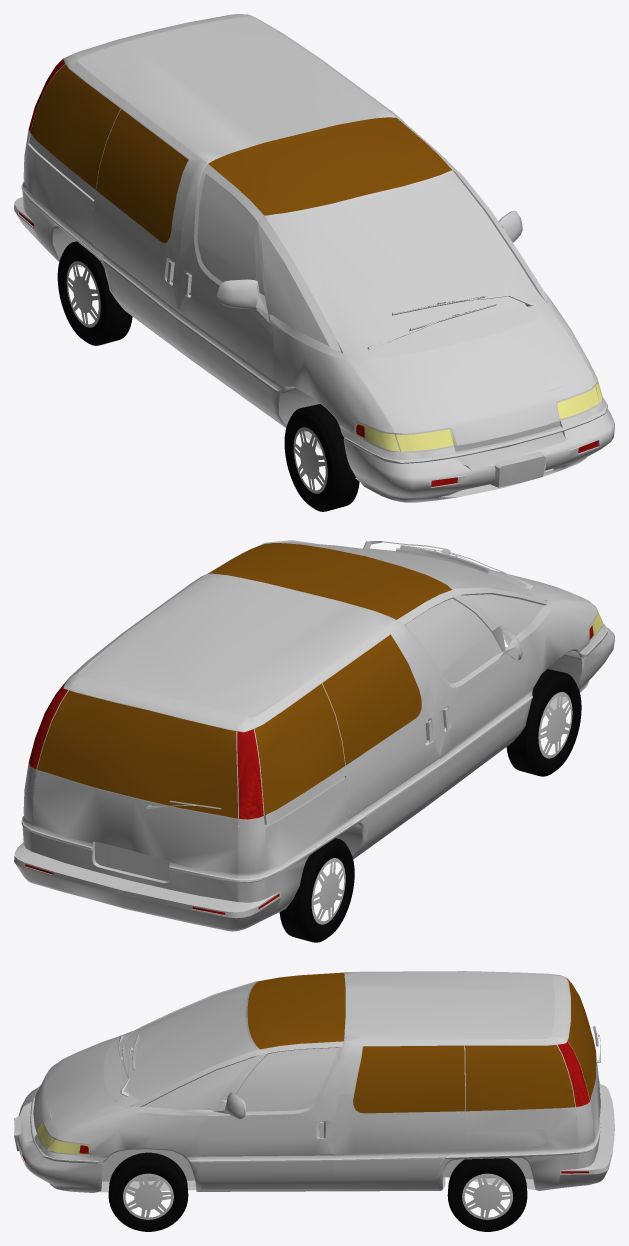
The model's file is xiaohuoche2.gltf.
3 views of the same model, one above another, from view 1: azimuth 30°, elevation 25°; view 2: azimuth 150°, elevation 25°; view 3: azimuth 270°, elevation 25° (orthographic). The views are drawn at different scales.
Visible parts, largest first — view 1: node_Lumina_bodydetachobj1_-208980, node_Lumina_bodydetachobj4_-208986, node_Lumina_bodydetachobj2_-208982, node_Lumina_bodydetachobj3_-208984, node_Lumina_bodydetachobj9_-208996, node_Lumina_bodydetachobj10_-208998, node_Lumina_bodydetachobj8_-208994; view 2: node_Lumina_bodydetachobj1_-208980, node_Lumina_bodydetachobj3_-208984, node_Lumina_bodydetachobj2_-208982, node_Lumina_bodydetachobj4_-208986, node_Lumina_bodydetachobj9_-208996, node_Lumina_bodydetachobj5_-208988, node_Lumina_bodydetachobj10_-208998; view 3: node_Lumina_bodydetachobj1_-208980, node_Lumina_bodydetachobj3_-208984, node_Lumina_bodydetachobj2_-208982, node_Lumina_bodydetachobj4_-208986, node_Lumina_bodydetachobj9_-208996, node_Lumina_bodydetachobj10_-208998, node_Lumina_bodydetachobj5_-208988, node_Lumina_bodydetachobj8_-208994.
Part boxes in pixels (x1,y1,x2,y2): node_Lumina_bodydetachobj1_-208980: (22, 14, 606, 459); node_Lumina_bodydetachobj4_-208986: (197, 173, 537, 345); node_Lumina_bodydetachobj2_-208982: (14, 14, 614, 502); node_Lumina_bodydetachobj3_-208984: (30, 64, 451, 242); node_Lumina_bodydetachobj9_-208996: (57, 241, 359, 511); node_Lumina_bodydetachobj10_-208998: (66, 261, 327, 493); node_Lumina_bodydetachobj8_-208994: (355, 380, 602, 451); node_Lumina_bodydetachobj1_-208980: (22, 569, 606, 915); node_Lumina_bodydetachobj3_-208984: (37, 543, 451, 818); node_Lumina_bodydetachobj2_-208982: (14, 540, 614, 931); node_Lumina_bodydetachobj4_-208986: (279, 542, 543, 683); node_Lumina_bodydetachobj9_-208996: (279, 669, 581, 942); node_Lumina_bodydetachobj5_-208988: (28, 683, 263, 819); node_Lumina_bodydetachobj10_-208998: (311, 692, 572, 924); node_Lumina_bodydetachobj1_-208980: (31, 971, 600, 1191); node_Lumina_bodydetachobj3_-208984: (247, 972, 596, 1113); node_Lumina_bodydetachobj2_-208982: (14, 971, 614, 1192); node_Lumina_bodydetachobj4_-208986: (121, 982, 338, 1111); node_Lumina_bodydetachobj9_-208996: (108, 1152, 527, 1231); node_Lumina_bodydetachobj10_-208998: (123, 1173, 512, 1219); node_Lumina_bodydetachobj5_-208988: (558, 978, 589, 1106); node_Lumina_bodydetachobj8_-208994: (37, 1079, 89, 1154).
Bounding box in the file's own units: 2.21 × 1.73 × 5.07.
